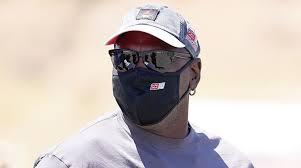cap: (101, 3, 209, 63)
mask: (107, 64, 185, 130)
sunglasses: (104, 46, 196, 74)
